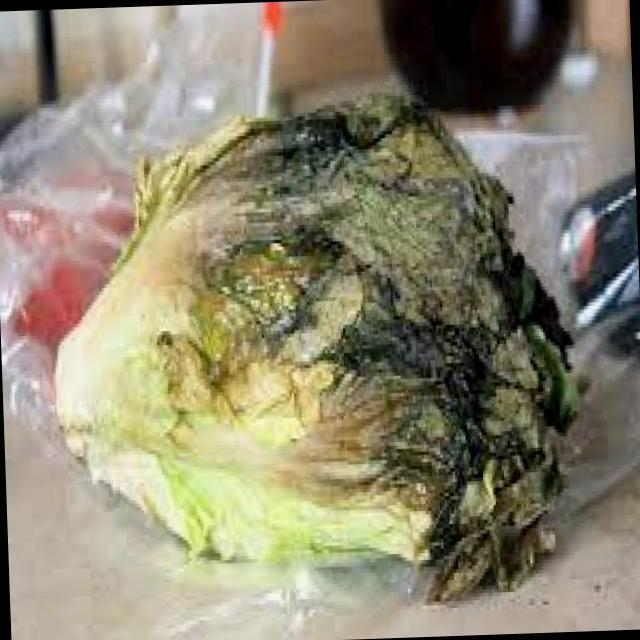Septoria_Blight: (144, 107, 521, 562)
